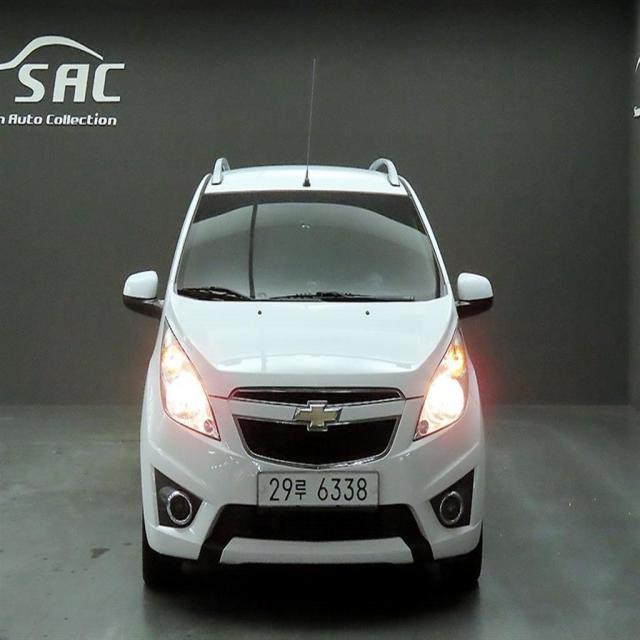car: (120, 147, 511, 616)
illegal_plate: (258, 468, 382, 516)
